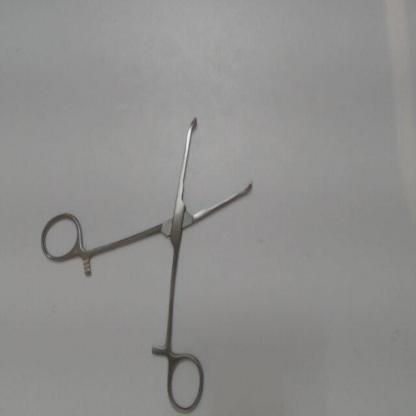Allis Tissue Forceps: (37, 110, 260, 414)
